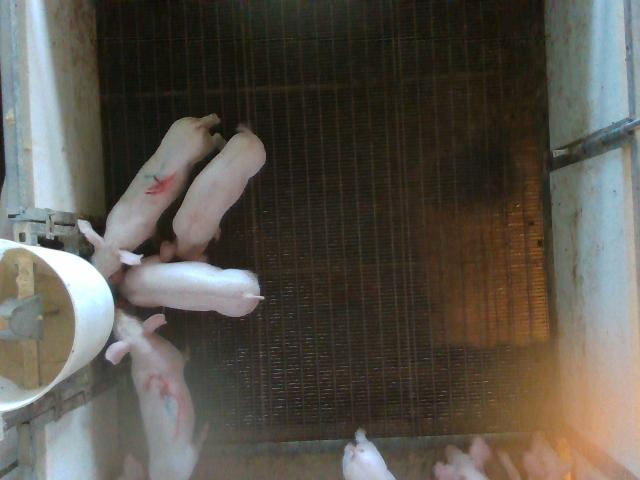pig-3: (105, 310, 208, 479)
pig-4: (78, 114, 222, 278)
